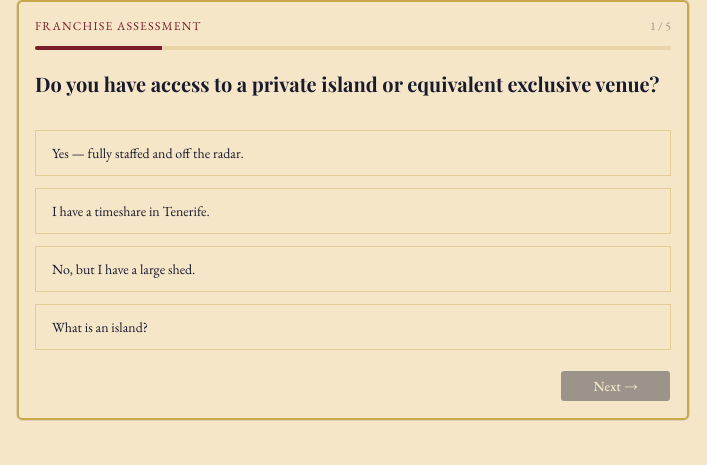
Test: FranchiseQuiz component › advances to question 2 after answering question 1
The image size is (707, 465).
Click the button "Yes — fully staffed and off the radar.": (148, 152) [35,130,671,176]
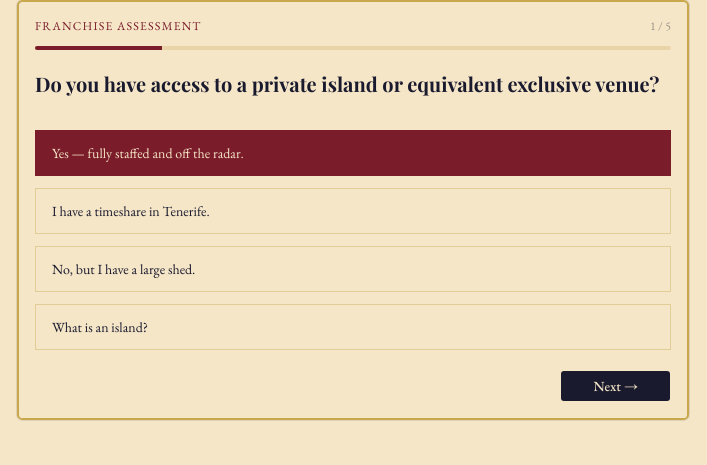
Click the button with aria-label "next question": (616, 386) [560,370,671,402]
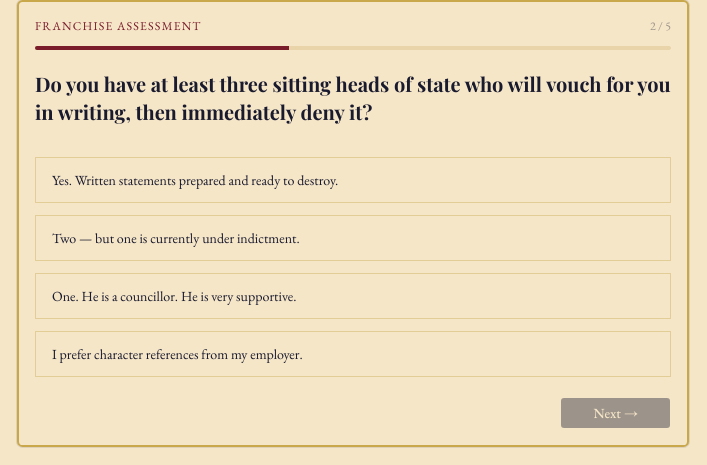
Now the heading "Do you have at least three sitting heads of state who will vouch for you in writing, then immediately deny it?" is shown, box [35,70,671,124]
Now the text "2 / 5" is shown, box [650,18,671,34]
